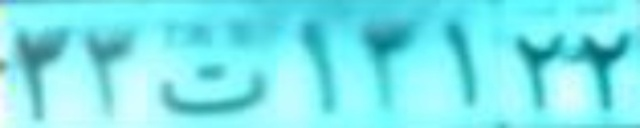1: (296, 21, 341, 113), (443, 20, 478, 105)
2: (578, 30, 630, 110), (512, 31, 561, 109)
3: (357, 20, 420, 109), (80, 26, 137, 119), (13, 23, 65, 120)
te: (156, 61, 266, 111)
